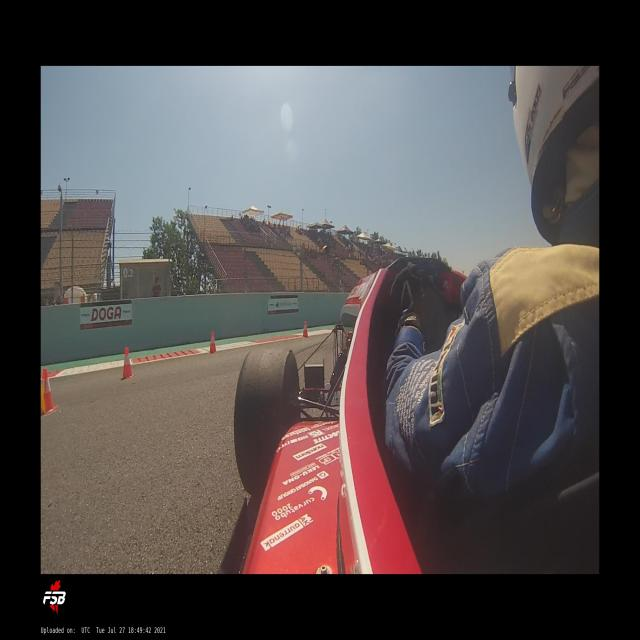orange_cone: (42, 368, 58, 414), (120, 347, 135, 379), (210, 331, 216, 354), (303, 320, 308, 338)
